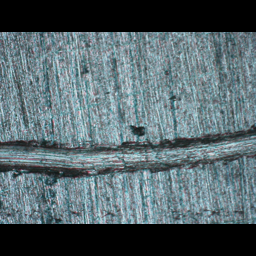d: (0, 122, 255, 179)
